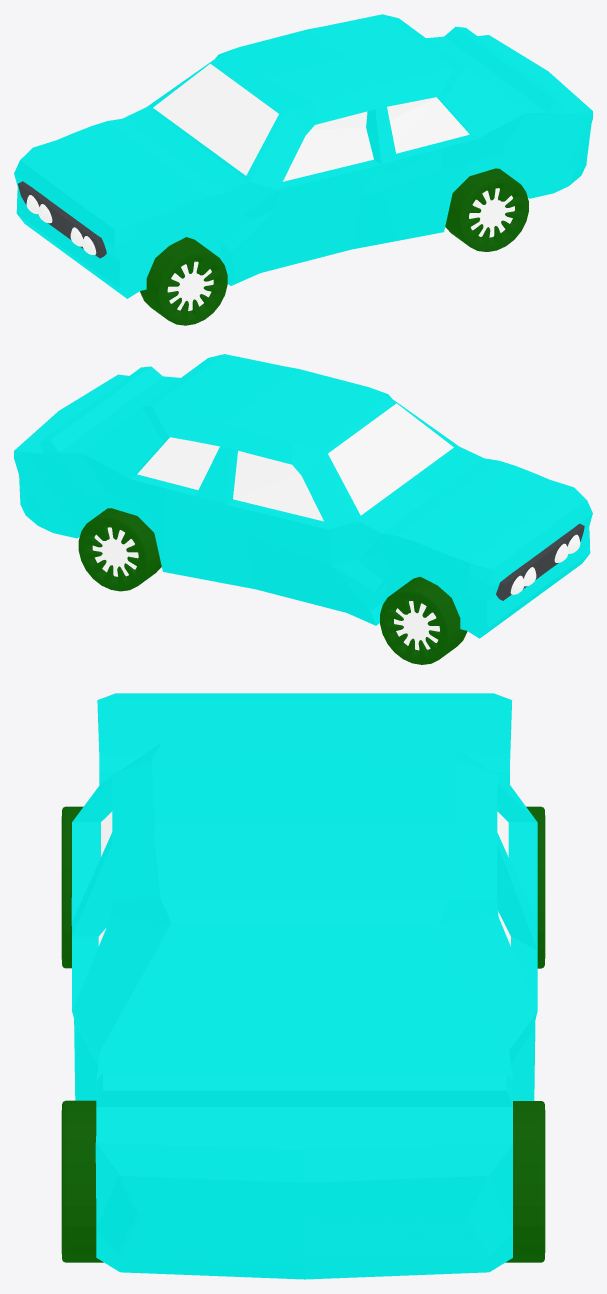
File: car_510.glb
The picture shows the model from 3 angles, top to bottom: view 1: azimuth 30°, elevation 25°; view 2: azimuth 150°, elevation 25°; view 3: azimuth 270°, elevation 25°; orthographic projection. The views are drawn at different scales.
Parts seen in each view (by area): view 1: voiture_merged; view 2: voiture_merged; view 3: voiture_merged.
Part boxes in pixels (x1,y1,x2,y2): voiture_merged: [14, 14, 592, 325]; voiture_merged: [14, 354, 592, 664]; voiture_merged: [61, 693, 545, 1279].
Bounding box in the file's own units: 2.81 × 0.9296 × 1.18.
